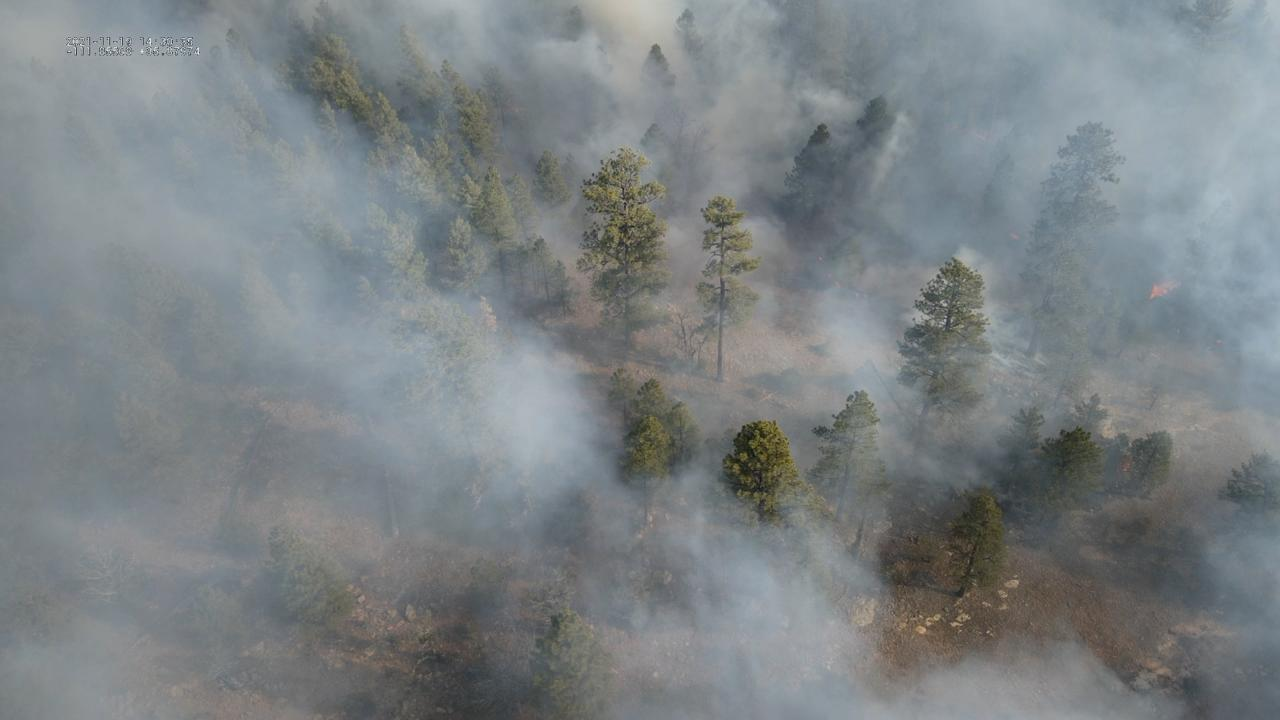fire: (1149, 280, 1184, 301), (1121, 462, 1132, 473), (1215, 338, 1224, 345)
smoke: (0, 0, 1280, 720)
